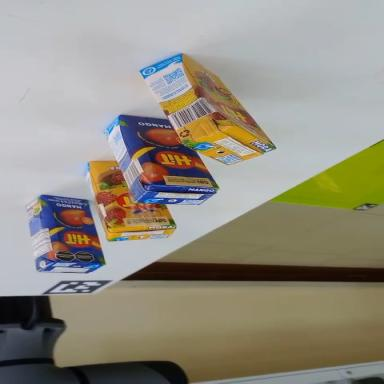HIT-MANGO: (94, 92, 221, 231), (17, 183, 106, 286)
HIT-MORA: (129, 35, 276, 192), (75, 141, 178, 261)
cara_F: (111, 91, 219, 218), (179, 44, 277, 160), (38, 184, 106, 276), (90, 158, 177, 229)
